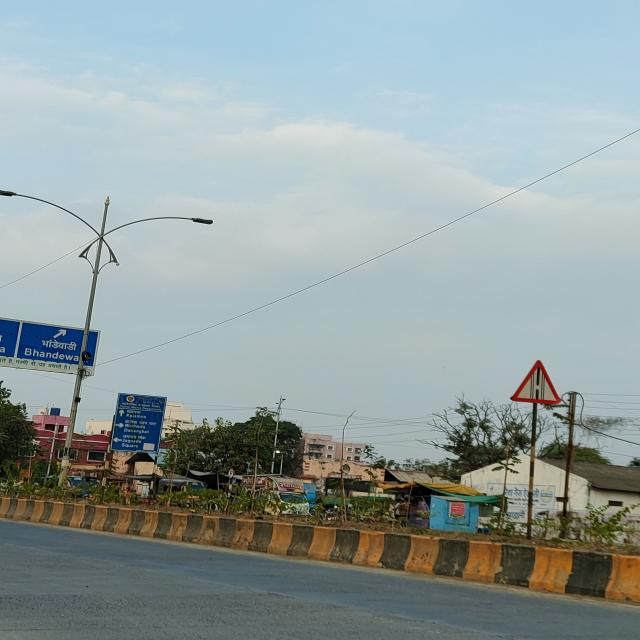GAP_IN_MEDIAN: (510, 361, 561, 403)
